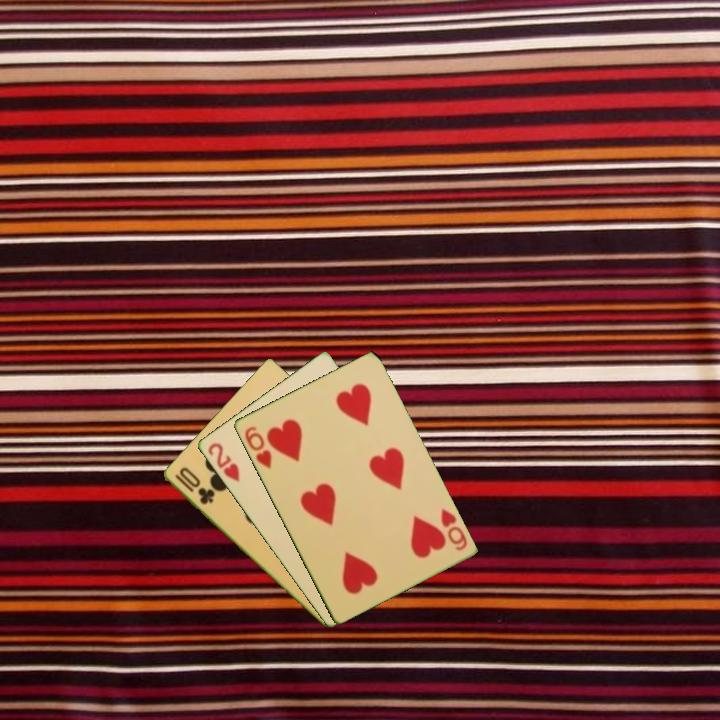10c: (171, 464, 217, 508)
2h: (204, 439, 242, 485)
6h: (241, 422, 274, 472), (437, 505, 470, 553)
